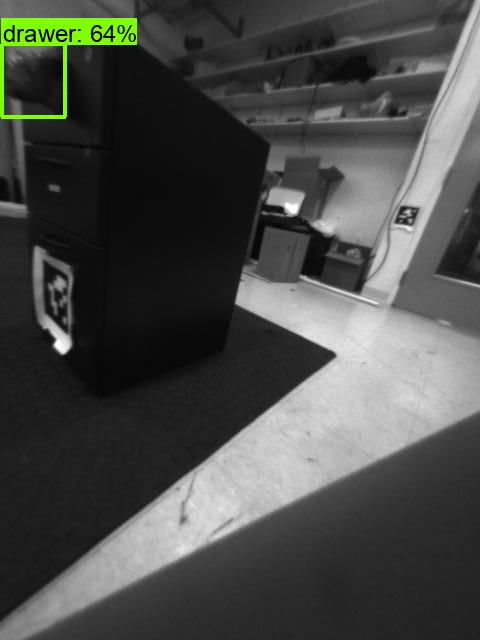drawer: (2, 49, 69, 111)
